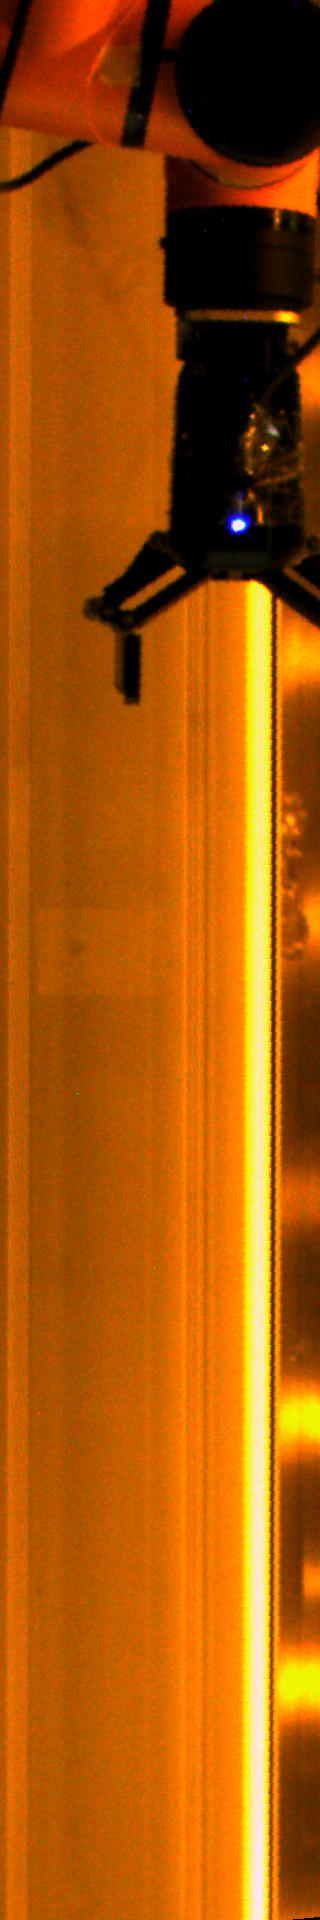keyPoint_1: (224, 509, 254, 540)
